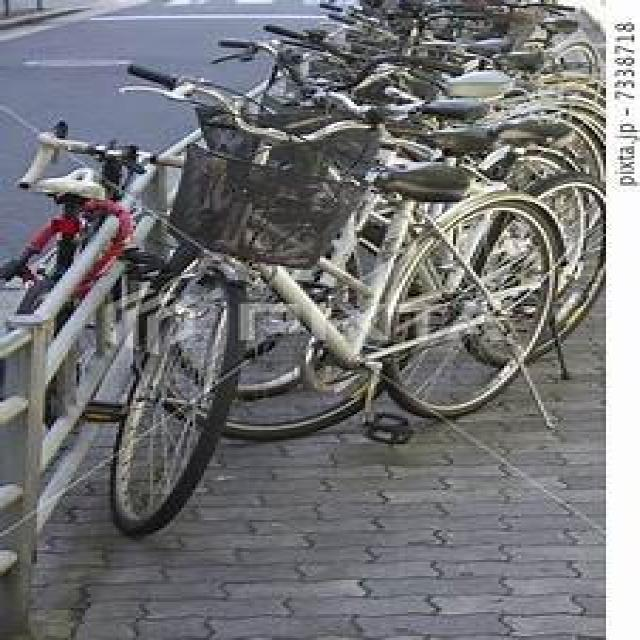basket: (167, 140, 370, 274)
